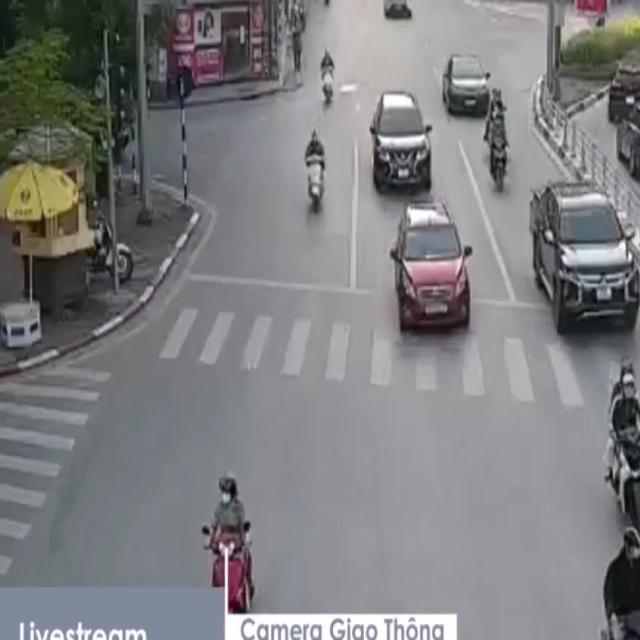car: (533, 186, 638, 333), (393, 206, 475, 333), (369, 90, 434, 194), (443, 54, 493, 118), (610, 95, 640, 186), (607, 55, 640, 130), (384, 1, 414, 21)
motorbike: (198, 471, 260, 627), (603, 356, 640, 531), (597, 522, 640, 640), (487, 106, 510, 196), (304, 128, 328, 212), (483, 85, 508, 150), (314, 46, 338, 108)
